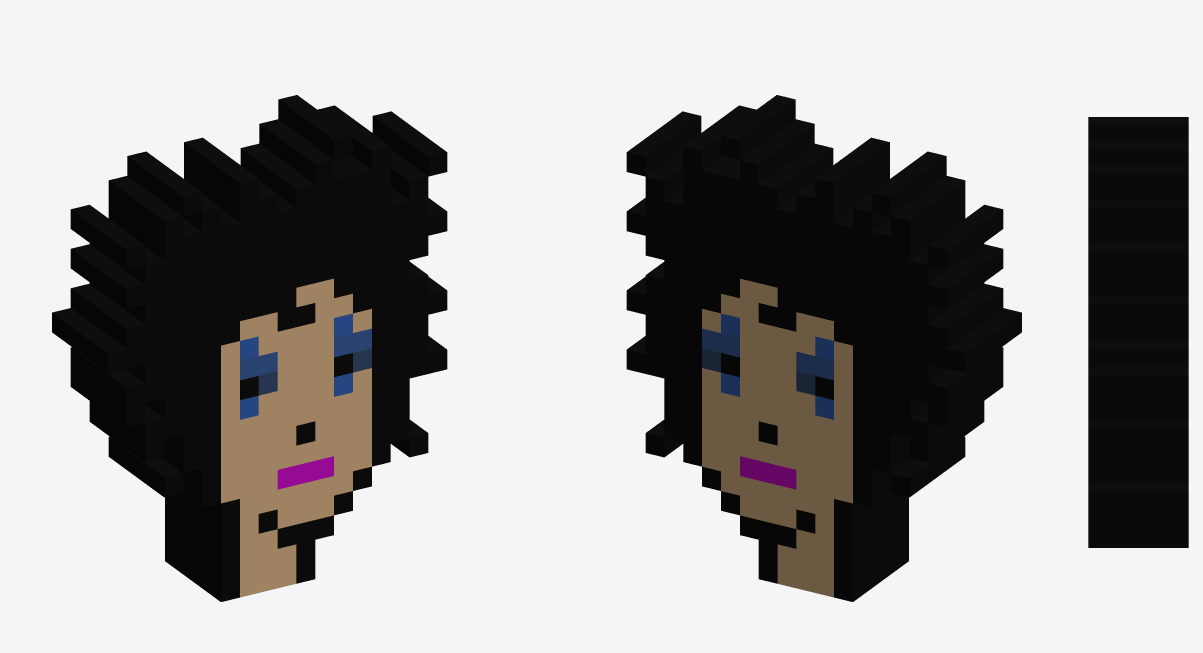
Rendered from ARPunk5468.glb.
The picture shows the model from 3 angles, left to right: view 1: azimuth 30°, elevation 25°; view 2: azimuth 150°, elevation 25°; view 3: azimuth 270°, elevation 25°; orthographic projection. The views are drawn at different scales.
Parts seen in each view (by area): view 1: Mesh_336, Mesh_432, Mesh_384, Mesh_458, Mesh_493, Mesh_487, Mesh_313, Mesh_488, Mesh_522, Mesh_473, Mesh_465, Mesh_146 (+18 smaller); view 2: Mesh_336, Mesh_432, Mesh_384, Mesh_458, Mesh_493, Mesh_487, Mesh_313, Mesh_488, Mesh_522, Mesh_473, Mesh_465, Mesh_146 (+18 smaller); view 3: Mesh_140, Mesh_305, Mesh_332, Mesh_401, Mesh_473, Mesh_495, Mesh_522, Mesh_233, Mesh_487, Mesh_488, Mesh_0, Mesh_158 (+13 smaller).
Boxes of the visible parts, left/top/right/bottom form: Mesh_336: left=70, top=283, right=145, bottom=348; Mesh_432: left=70, top=204, right=145, bottom=269; Mesh_384: left=70, top=244, right=145, bottom=309; Mesh_458: left=108, top=176, right=183, bottom=240; Mesh_493: left=259, top=119, right=333, bottom=184; Mesh_487: left=127, top=151, right=201, bottom=216; Mesh_313: left=52, top=308, right=126, bottom=372; Mesh_488: left=184, top=137, right=258, bottom=202; Mesh_522: left=278, top=95, right=352, bottom=159; Mesh_473: left=372, top=111, right=447, bottom=176; Mesh_465: left=240, top=143, right=315, bottom=208; Mesh_146: left=108, top=436, right=183, bottom=497; Mesh_336: left=928, top=283, right=1003, bottom=348; Mesh_432: left=928, top=204, right=1003, bottom=269; Mesh_384: left=928, top=244, right=1003, bottom=309; Mesh_458: left=890, top=176, right=965, bottom=240; Mesh_493: left=740, top=119, right=814, bottom=184; Mesh_487: left=872, top=151, right=946, bottom=216; Mesh_313: left=947, top=308, right=1021, bottom=372; Mesh_488: left=815, top=137, right=889, bottom=202; Mesh_522: left=721, top=95, right=795, bottom=159; Mesh_473: left=626, top=111, right=701, bottom=176; Mesh_465: left=758, top=143, right=833, bottom=208; Mesh_146: left=890, top=436, right=965, bottom=497; Mesh_140: left=1088, top=482, right=1188, bottom=508; Mesh_305: left=1088, top=366, right=1188, bottom=392; Mesh_332: left=1088, top=340, right=1188, bottom=366; Mesh_401: left=1088, top=295, right=1188, bottom=321; Mesh_473: left=1088, top=242, right=1188, bottom=268; Mesh_495: left=1088, top=199, right=1188, bottom=225; Mesh_522: left=1088, top=165, right=1188, bottom=191; Mesh_233: left=1088, top=420, right=1188, bottom=445; Mesh_487: left=1088, top=117, right=1188, bottom=141; Mesh_488: left=1088, top=141, right=1188, bottom=165; Mesh_0: left=1088, top=530, right=1188, bottom=547; Mesh_158: left=1088, top=465, right=1188, bottom=482.
Size of the model in its own units: 24 by 24 by 5.13.
Materials: 1 (1 with a texture image).
